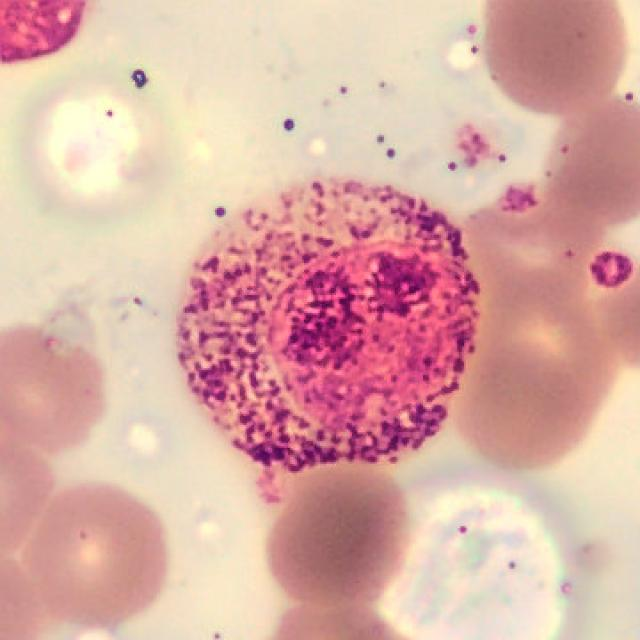Promielocito: (174, 180, 480, 503)
